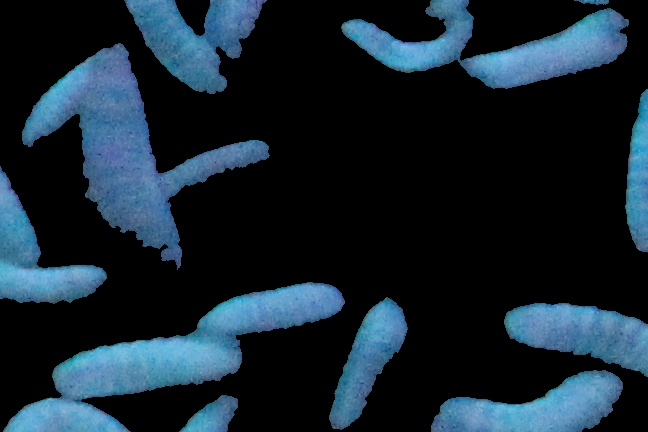larvae: (78, 57, 185, 268), (456, 12, 629, 90), (19, 43, 128, 158), (428, 370, 623, 432), (501, 298, 648, 380), (52, 335, 240, 394), (330, 295, 413, 428), (118, 1, 227, 100), (338, 16, 473, 76), (198, 282, 346, 336), (153, 138, 271, 194), (1, 163, 52, 267), (1, 257, 112, 302), (4, 399, 133, 432), (200, 2, 268, 62), (625, 87, 648, 255), (180, 394, 247, 432)
